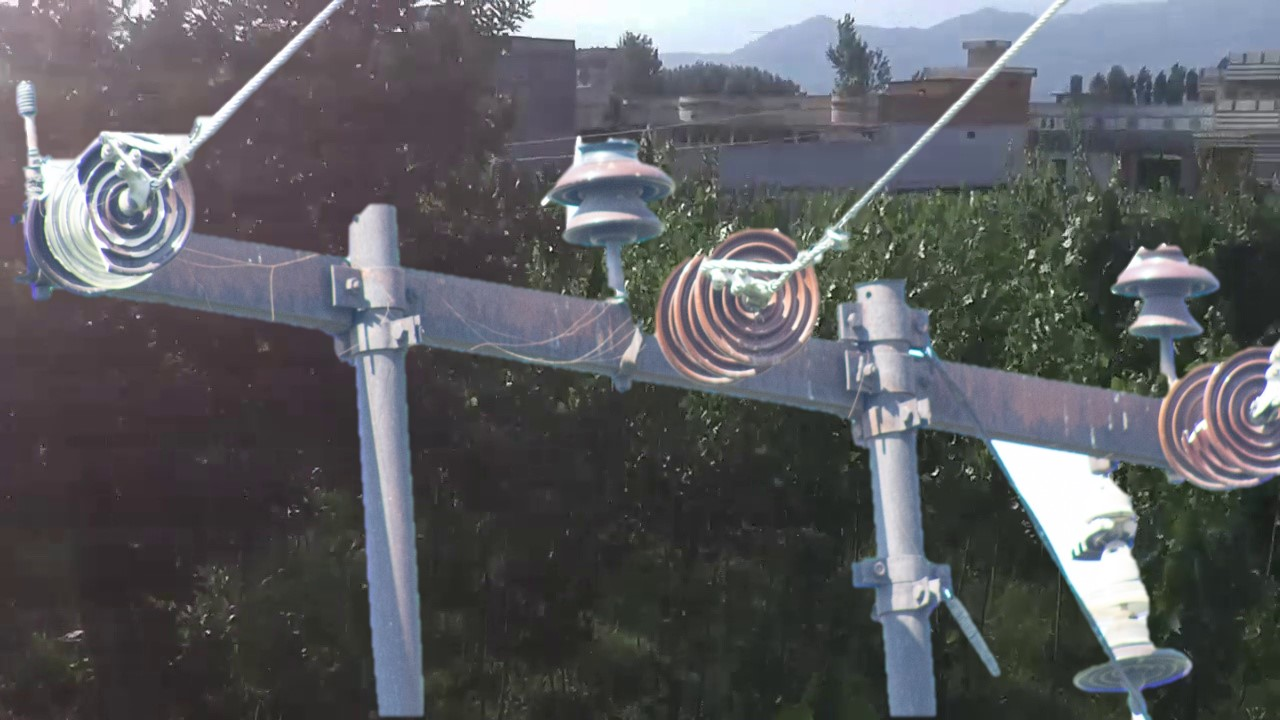defect_disc: (75, 126, 201, 281)
insulator_disc: (692, 223, 825, 368)
